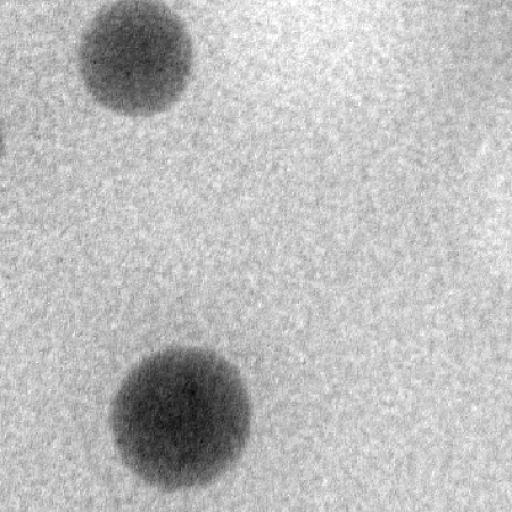Nanoparticles: (110, 344, 254, 488), (77, 0, 198, 118)
